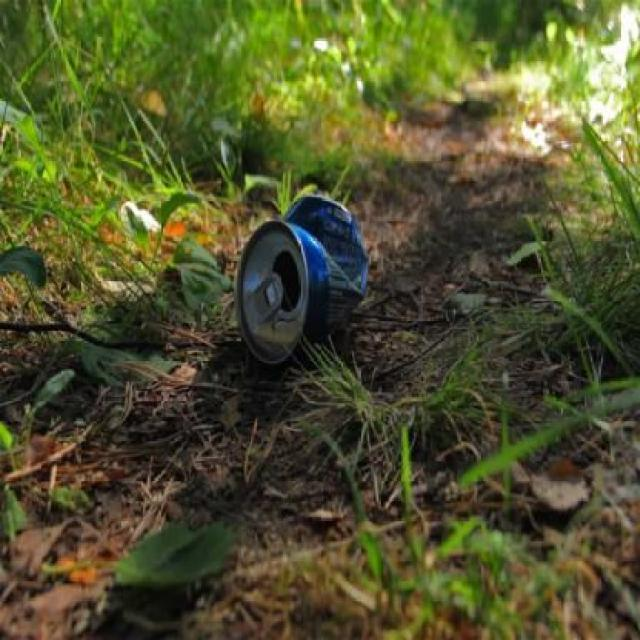garbage: (228, 156, 372, 409)
